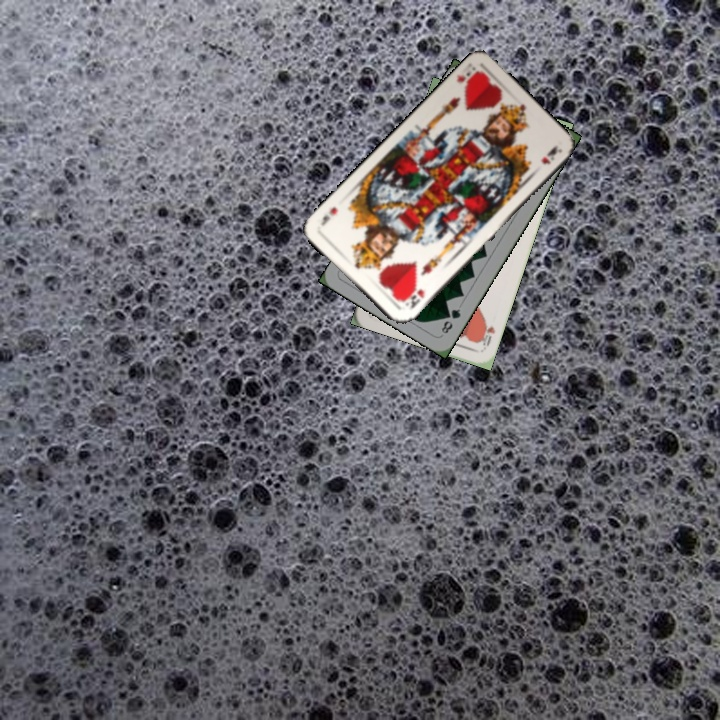G8: (437, 304, 464, 336)
HK: (399, 285, 427, 311), (453, 62, 478, 85)
HO: (474, 318, 498, 352)
